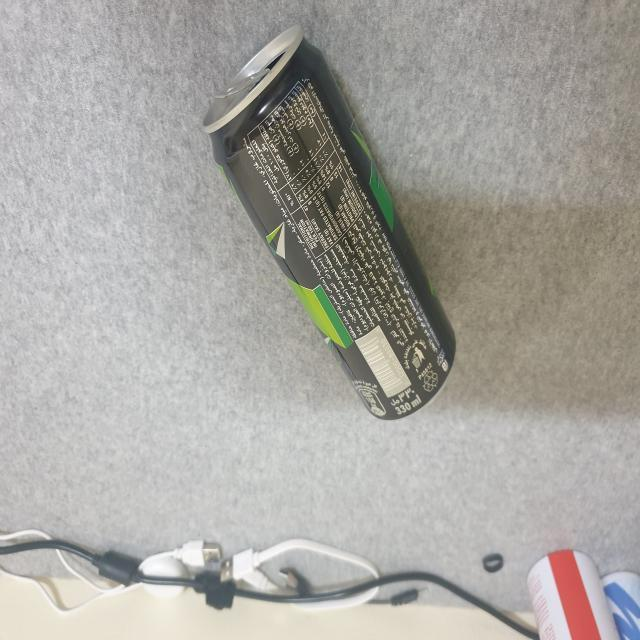can: (203, 28, 454, 424)
